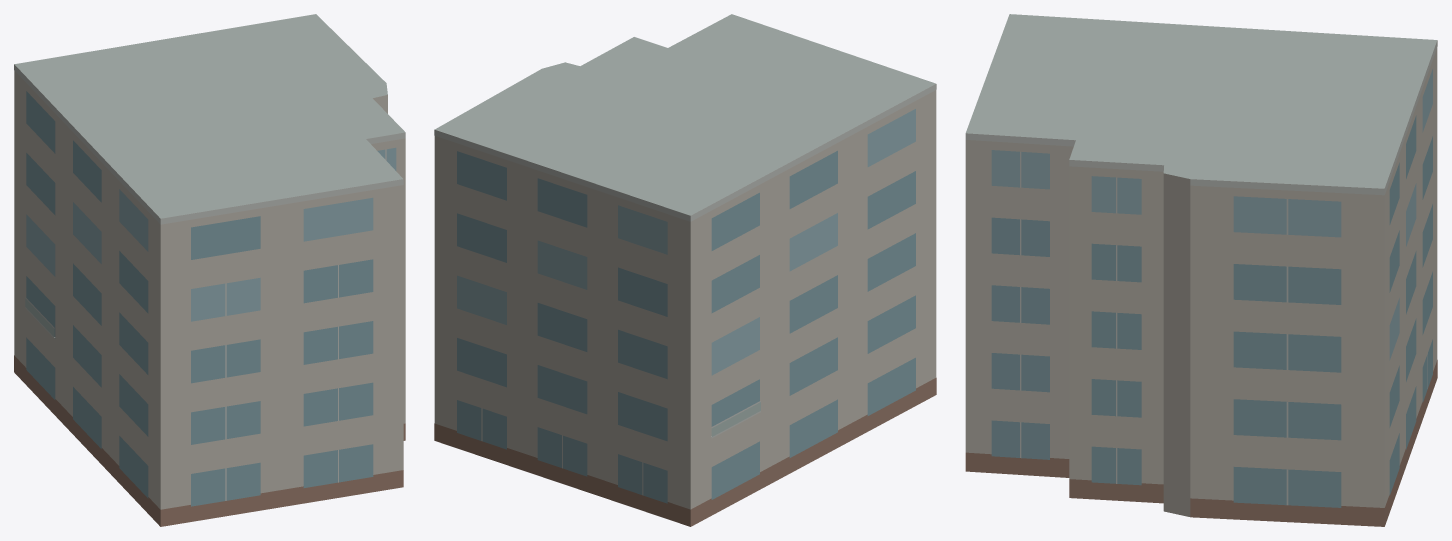
Rendered from survey-upis-32636437.glb.
3 views of the same model, side by side, from view 1: azimuth 30°, elevation 25°; view 2: azimuth 150°, elevation 25°; view 3: azimuth 270°, elevation 25° (orthographic). The views are drawn at different scales.
Visible parts, largest first — view 1: survey-upis-32636437.tmp; view 2: survey-upis-32636437.tmp; view 3: survey-upis-32636437.tmp.
Part boxes in pixels (x1,y1,x2,y2): survey-upis-32636437.tmp: (14, 14, 405, 526); survey-upis-32636437.tmp: (434, 14, 936, 526); survey-upis-32636437.tmp: (965, 14, 1437, 526).
Size of the model in its own units: 14.04 by 12.66 by 16.02.
